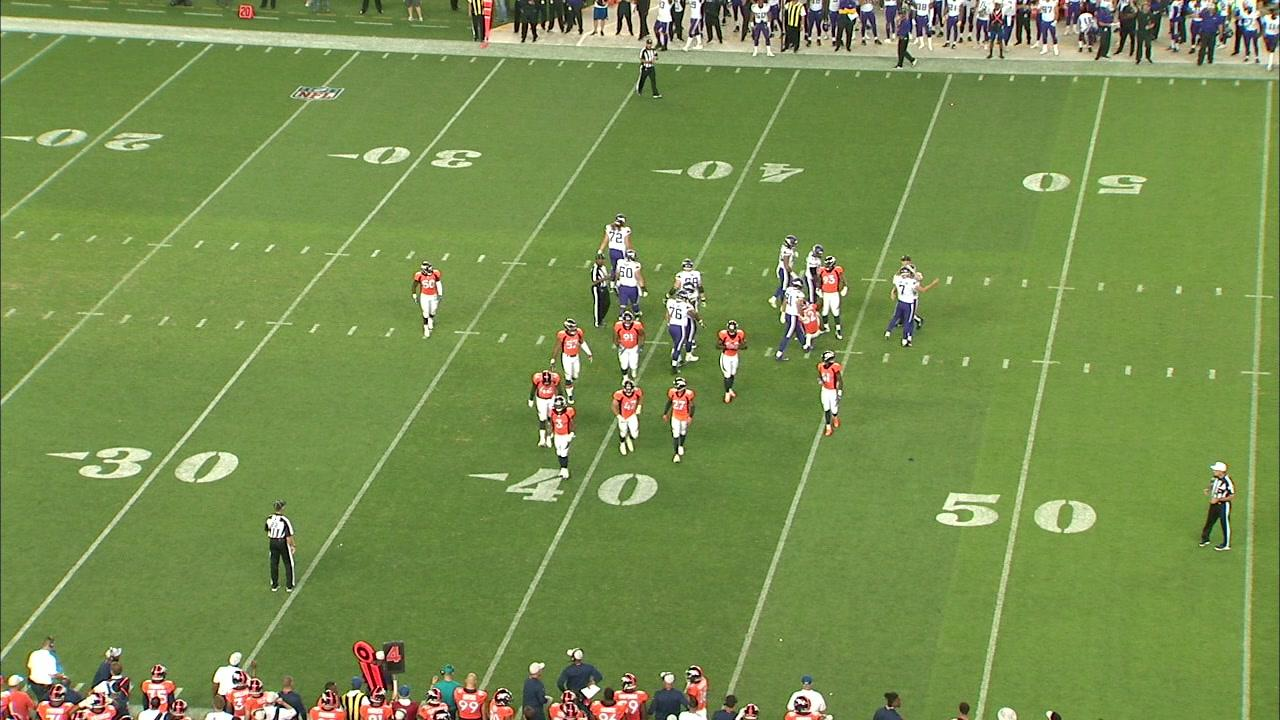five_hash: (1031, 358, 1062, 366), (75, 310, 105, 318), (834, 348, 862, 356), (1239, 369, 1271, 376), (1245, 293, 1274, 300), (266, 320, 294, 327), (860, 276, 888, 283), (1047, 285, 1078, 291), (148, 242, 173, 249), (325, 251, 350, 258), (642, 340, 670, 346), (502, 261, 528, 267), (453, 329, 479, 335)
hash: (231, 317, 248, 333), (307, 321, 322, 336), (157, 313, 172, 328), (346, 324, 360, 338), (117, 312, 131, 326), (195, 316, 208, 330), (3, 307, 17, 320), (41, 309, 57, 320), (496, 332, 509, 345), (384, 325, 396, 339), (48, 231, 62, 242), (1123, 363, 1134, 377), (86, 232, 98, 244), (193, 238, 205, 250), (263, 242, 275, 254), (12, 229, 25, 240), (1164, 366, 1175, 379), (371, 247, 382, 259), (405, 249, 417, 260), (476, 253, 487, 265), (724, 265, 736, 276), (1095, 280, 1106, 292), (1133, 283, 1145, 294), (1081, 362, 1092, 374), (763, 346, 774, 358), (961, 355, 971, 368), (582, 258, 593, 269), (653, 262, 664, 273), (981, 276, 992, 287), (881, 352, 892, 363), (760, 267, 771, 278), (121, 235, 133, 245), (228, 241, 240, 251), (1174, 284, 1184, 296), (1001, 357, 1010, 370), (299, 246, 310, 256), (440, 252, 450, 263), (1020, 278, 1030, 289), (1207, 368, 1217, 379), (546, 257, 557, 267), (535, 334, 545, 345), (406, 249, 416, 260), (921, 353, 930, 365), (944, 275, 954, 285), (1215, 286, 1223, 297)
number: (35, 126, 168, 154)
